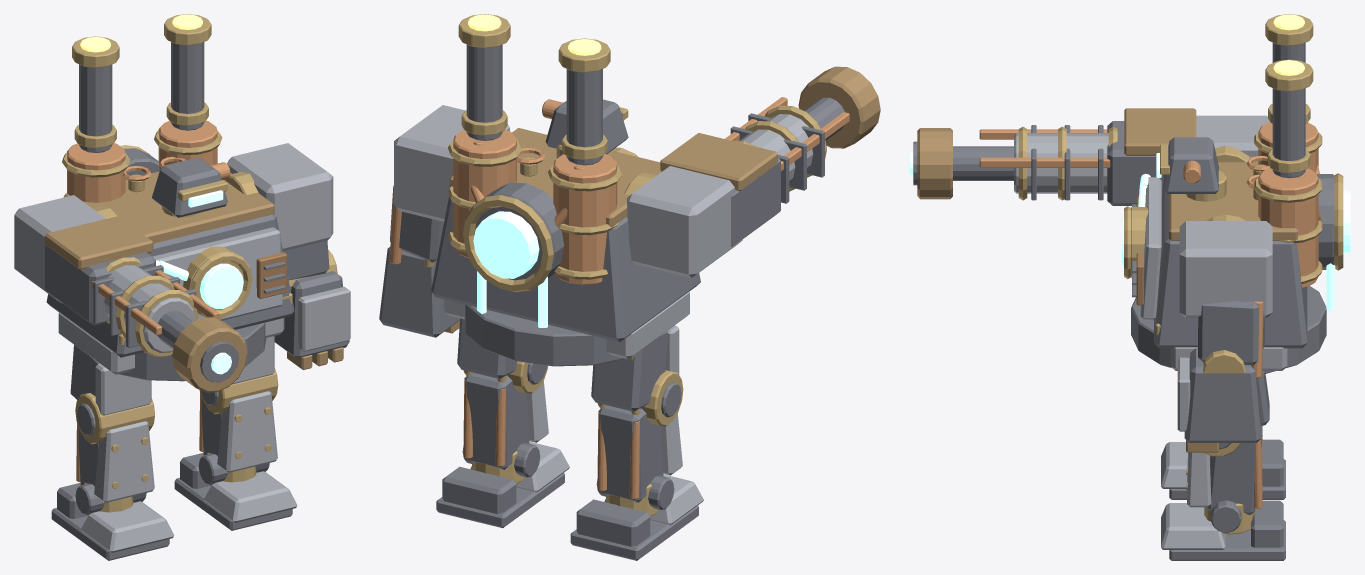
Rendered from gearforge_titan.glb.
The picture shows the model from 3 angles, left to right: view 1: azimuth 30°, elevation 25°; view 2: azimuth 150°, elevation 25°; view 3: azimuth 270°, elevation 25°; orthographic projection. The views are drawn at different scales.
Visible parts, largest first — view 1: gearforge_titan_steel_lod0, gearforge_titan_dark_iron_lod0, gearforge_titan_brass_lod0, gearforge_titan_bronze_lod0, gearforge_titan_copper_lod0, gearforge_titan_aether_glow_lod0, gearforge_titan_rust_lod0, gearforge_titan_furnace_glow_lod0; view 2: gearforge_titan_dark_iron_lod0, gearforge_titan_steel_lod0, gearforge_titan_brass_lod0, gearforge_titan_copper_lod0, gearforge_titan_bronze_lod0, gearforge_titan_aether_glow_lod0, gearforge_titan_furnace_glow_lod0; view 3: gearforge_titan_dark_iron_lod0, gearforge_titan_steel_lod0, gearforge_titan_brass_lod0, gearforge_titan_bronze_lod0, gearforge_titan_copper_lod0, gearforge_titan_aether_glow_lod0, gearforge_titan_furnace_glow_lod0.
Boxes of the visible parts, x1,y1,x2,y2 form: gearforge_titan_steel_lod0: [14, 143, 350, 552]; gearforge_titan_dark_iron_lod0: [45, 42, 349, 560]; gearforge_titan_brass_lod0: [62, 14, 337, 515]; gearforge_titan_bronze_lod0: [45, 171, 343, 392]; gearforge_titan_copper_lod0: [67, 120, 230, 482]; gearforge_titan_aether_glow_lod0: [156, 190, 243, 374]; gearforge_titan_rust_lod0: [256, 252, 287, 298]; gearforge_titan_furnace_glow_lod0: [80, 14, 202, 52]; gearforge_titan_dark_iron_lod0: [379, 44, 844, 560]; gearforge_titan_steel_lod0: [394, 105, 813, 525]; gearforge_titan_brass_lod0: [424, 14, 826, 516]; gearforge_titan_copper_lod0: [389, 97, 849, 498]; gearforge_titan_bronze_lod0: [444, 66, 880, 333]; gearforge_titan_aether_glow_lod0: [473, 211, 547, 327]; gearforge_titan_furnace_glow_lod0: [468, 14, 601, 55]; gearforge_titan_dark_iron_lod0: [913, 42, 1334, 560]; gearforge_titan_steel_lod0: [1014, 115, 1287, 549]; gearforge_titan_brass_lod0: [1018, 14, 1343, 534]; gearforge_titan_bronze_lod0: [917, 108, 1297, 452]; gearforge_titan_copper_lod0: [979, 122, 1321, 508]; gearforge_titan_aether_glow_lod0: [909, 152, 1350, 311]; gearforge_titan_furnace_glow_lod0: [1273, 14, 1304, 75].
Size of the model in its own units: 7.76 by 11.39 by 9.64.
